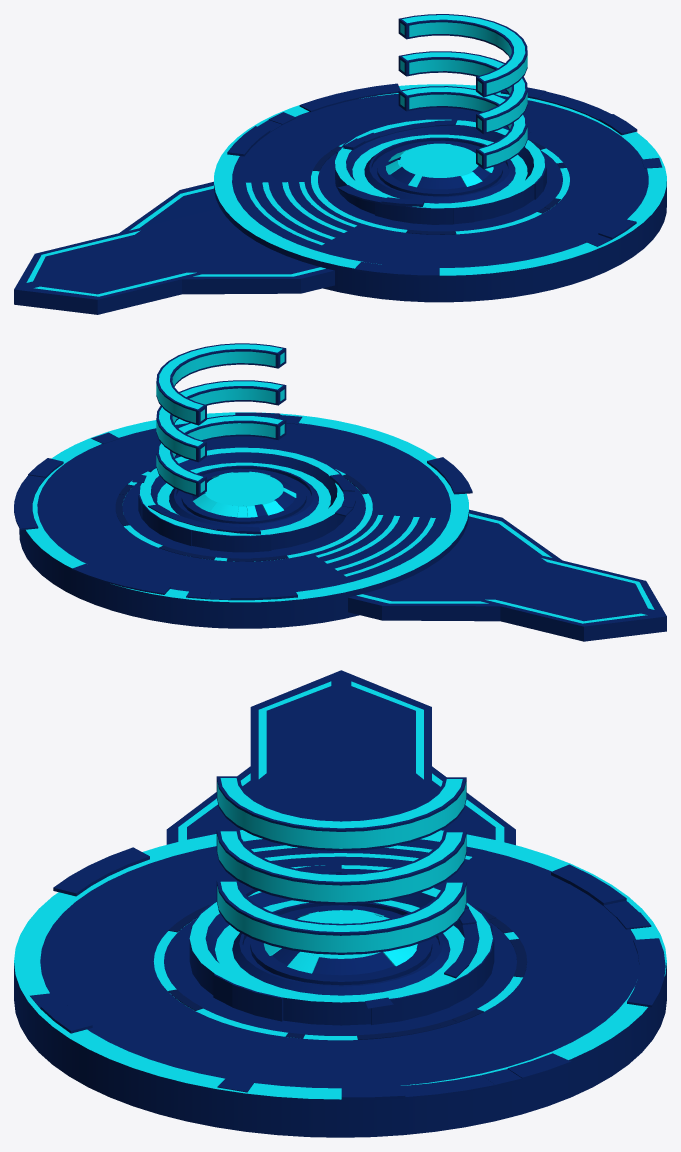
File: portal teleport.fbx
3 views of the same model, one above another, from view 1: azimuth 30°, elevation 25°; view 2: azimuth 150°, elevation 25°; view 3: azimuth 270°, elevation 25° (orthographic). The views are drawn at different scales.
Parts seen in each view (by area): view 1: Cylinder, Cube, Cylinder.004, Cylinder_RLExtr, Cylinder.003, Cylinder.002, Cylinder.001, Cylinder.004_RLExtr.003, Cylinder.004_RLExtr.001, Cylinder.004_RLExtr, Cylinder_RLExtr.001; view 2: Cylinder, Cube, Cylinder.004, Cylinder_RLExtr, Cylinder.003, Cylinder.002, Cylinder.001, Cylinder.004_RLExtr.003, Cylinder.004_RLExtr.001, Cylinder.004_RLExtr, Cylinder_RLExtr.001; view 3: Cylinder, Cube, Cylinder.004, Cylinder_RLExtr, Cylinder.003, Cylinder.001, Cylinder.002, Cylinder.004_RLExtr.003, Cylinder_RLExtr.001, Cylinder.004_RLExtr.001, Cylinder.004_RLExtr.
Boxes of the visible parts, <box> form: Cylinder: <box>214,84,666,302</box>; Cube: <box>14,181,334,314</box>; Cylinder.004: <box>335,119,544,221</box>; Cylinder_RLExtr: <box>227,83,662,277</box>; Cylinder.003: <box>398,14,527,97</box>; Cylinder.002: <box>398,51,527,134</box>; Cylinder.001: <box>398,86,527,169</box>; Cylinder.004_RLExtr.003: <box>336,119,546,224</box>; Cylinder.004_RLExtr.001: <box>337,120,530,206</box>; Cylinder.004_RLExtr: <box>385,143,493,187</box>; Cylinder_RLExtr.001: <box>313,139,566,234</box>; Cylinder: <box>19,412,468,628</box>; Cube: <box>348,509,666,641</box>; Cylinder.004: <box>139,447,345,550</box>; Cylinder_RLExtr: <box>14,412,472,600</box>; Cylinder.003: <box>156,343,286,425</box>; Cylinder.002: <box>156,380,286,462</box>; Cylinder.001: <box>156,415,286,496</box>; Cylinder.004_RLExtr.003: <box>138,447,343,552</box>; Cylinder.004_RLExtr.001: <box>132,474,355,534</box>; Cylinder.004_RLExtr: <box>193,471,296,517</box>; Cylinder_RLExtr.001: <box>115,468,368,561</box>; Cylinder: <box>14,830,666,1137</box>; Cube: <box>166,670,515,845</box>; Cylinder.004: <box>189,888,492,1025</box>; Cylinder_RLExtr: <box>30,847,665,1100</box>; Cylinder.003: <box>216,776,466,850</box>; Cylinder.001: <box>216,880,466,954</box>; Cylinder.002: <box>216,830,466,904</box>; Cylinder.004_RLExtr.003: <box>191,901,494,1024</box>; Cylinder_RLExtr.001: <box>168,905,527,1039</box>; Cylinder.004_RLExtr.001: <box>241,864,479,1008</box>; Cylinder.004_RLExtr: <box>264,909,417,973</box>.
Bounding box in the file's own units: 1145 × 273 × 721.
